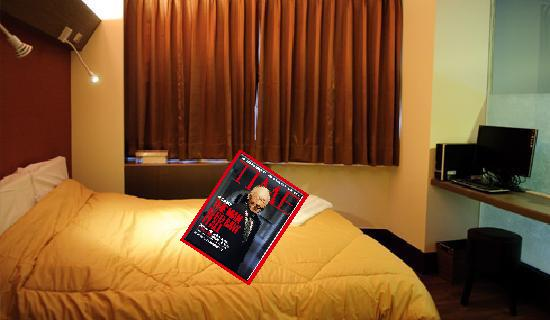times: (180, 148, 310, 287)
